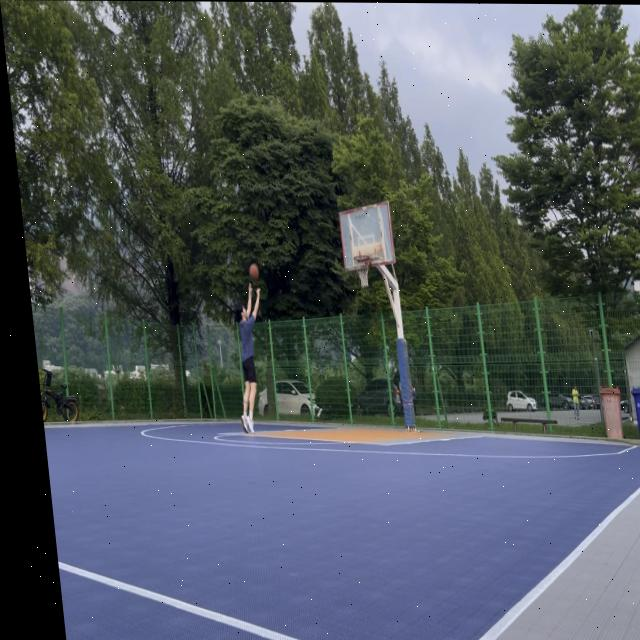basketball: (248, 263, 261, 281)
hoop: (353, 255, 373, 289)
